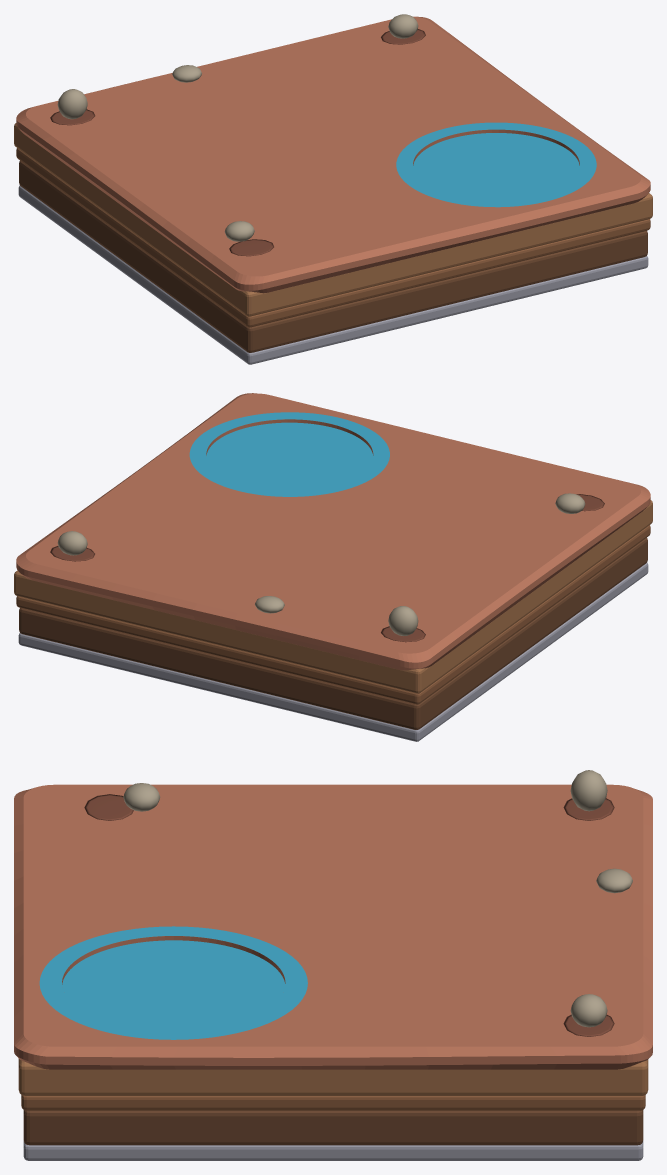
The model's file is island_precambrian.glb.
The picture shows the model from 3 angles, top to bottom: view 1: azimuth 30°, elevation 25°; view 2: azimuth 150°, elevation 25°; view 3: azimuth 270°, elevation 25°; orthographic projection. The views are drawn at different scales.
Visible parts, largest first — view 1: Top, Sides, Water, Deco; view 2: Top, Sides, Water, Deco; view 3: Top, Sides, Water, Deco.
Part boxes in pixels (x1,y1,x2,y2): Top: [16, 16, 650, 293]; Sides: [14, 123, 652, 364]; Water: [413, 133, 579, 199]; Deco: [50, 14, 425, 256]; Top: [16, 393, 650, 670]; Sides: [14, 500, 652, 741]; Water: [206, 422, 372, 489]; Deco: [50, 493, 604, 642]; Top: [14, 784, 652, 1069]; Sides: [18, 1059, 648, 1160]; Water: [62, 940, 285, 1030]; Deco: [84, 770, 632, 1036].
Bounding box in the file's own units: 20 × 5.24 × 20.
